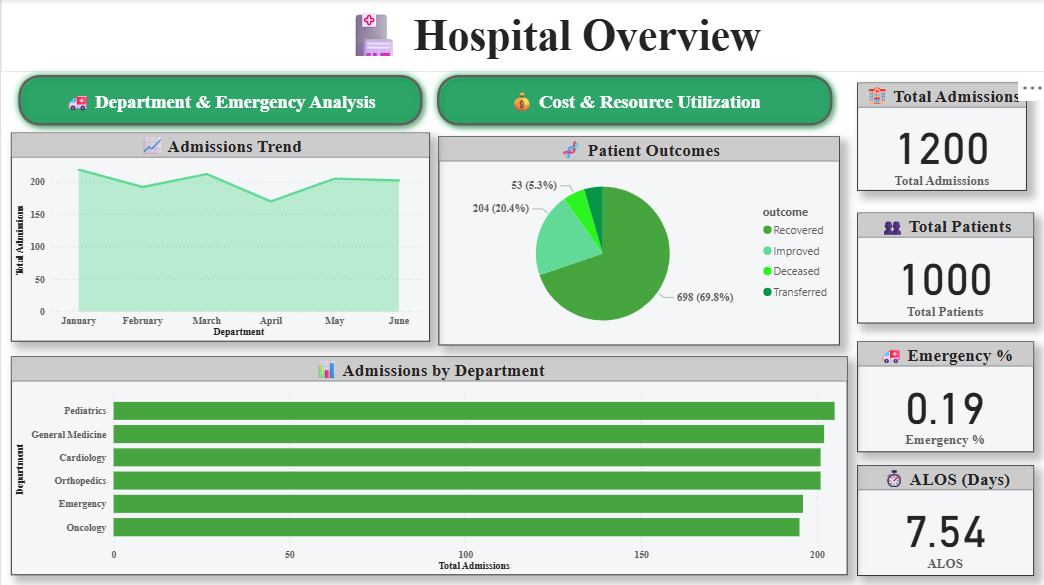

This screenshot's page, from the dashboard's own definition file:
{"tool":"powerbi","page":{"name":"🏥 Hospital Overview","canvas":[1280,720],"ordinal":0},"visuals":[{"type":"card","title":"👥 Total Patients","fields":{"Values":["Admissions.Total Patients"]},"box":[1046.9,260.7,215.7,135.1],"z":0},{"type":"card","title":"🏨 Total Admissions","fields":{"Values":["Admissions.Total Admissions"]},"box":[1046.9,102.4,207.5,132.4],"z":1000},{"type":"card","title":"⏱️ ALOS (Days)","fields":{"Values":["Admissions.ALOS"]},"box":[1046.9,569.2,215.7,135.1],"z":2000},{"type":"card","title":"🚑 Emergency %","fields":{"Values":["Admissions.Emergency %"]},"box":[1046.9,419,215.7,135.1],"z":3000},{"type":"clusteredBarChart","title":"📊 Admissions by Department","fields":{"Y":["Admissions.Total Admissions"],"Category":["Admissions.department"]},"box":[12.2,437,1022.1,267.4],"z":4000},{"type":"pieChart","title":"🧬 Patient Outcomes","fields":{"Category":["Outcomes.outcome"],"Y":["Outcomes.Outcome Count"]},"box":[534.7,168.1,490.4,255.1],"z":5000},{"type":"lineChart","title":"📈 Admissions Trend","fields":{"Y":["Admissions.Total Admissions"],"Category":["Admissions.admission_date.Variation.Date Hierarchy.Month"]},"box":[12.2,163.9,512.4,254.3],"z":6000},{"type":"textbox","box":[0,0,1280.3,88.6],"z":7000},{"type":"actionButton","title":"🚑 Department & Emergency Analysis","box":[12.2,84,511.8,79.4],"z":8000},{"type":"actionButton","title":"🚑 Department & Emergency Analysis","box":[524,84,501.1,79.4],"z":9000}]}

Visuals, with their boxes in screenshot pixels (x1, y1, x2, y2), scaled from the page's 1280x720 canvas onto the 1044x585 screenshot:
"👥 Total Patients" card: l=854, t=212, r=1030, b=322
"🏨 Total Admissions" card: l=854, t=83, r=1023, b=191
"⏱️ ALOS (Days)" card: l=854, t=462, r=1030, b=572
"🚑 Emergency %" card: l=854, t=340, r=1030, b=450
"📊 Admissions by Department" clusteredBarChart: l=10, t=355, r=844, b=572
"🧬 Patient Outcomes" pieChart: l=436, t=137, r=836, b=344
"📈 Admissions Trend" lineChart: l=10, t=133, r=428, b=340
textbox: l=0, t=0, r=1043, b=72
"🚑 Department & Emergency Analysis" actionButton: l=10, t=68, r=427, b=133
"🚑 Department & Emergency Analysis" actionButton: l=427, t=68, r=836, b=133
